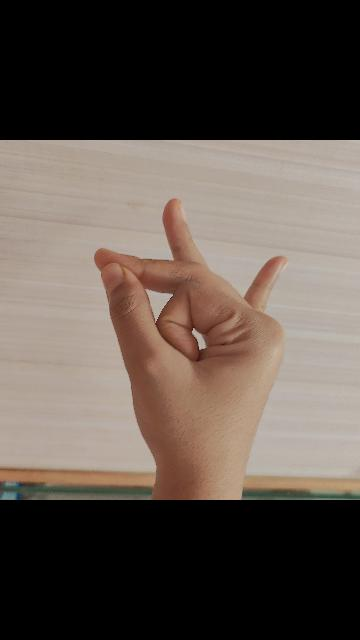bhramara: (91, 201, 284, 500)
